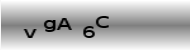6: (82, 24, 96, 39)
A: (55, 17, 74, 31)
C: (95, 14, 111, 29)
g: (43, 19, 57, 33)
v: (23, 28, 37, 39)
